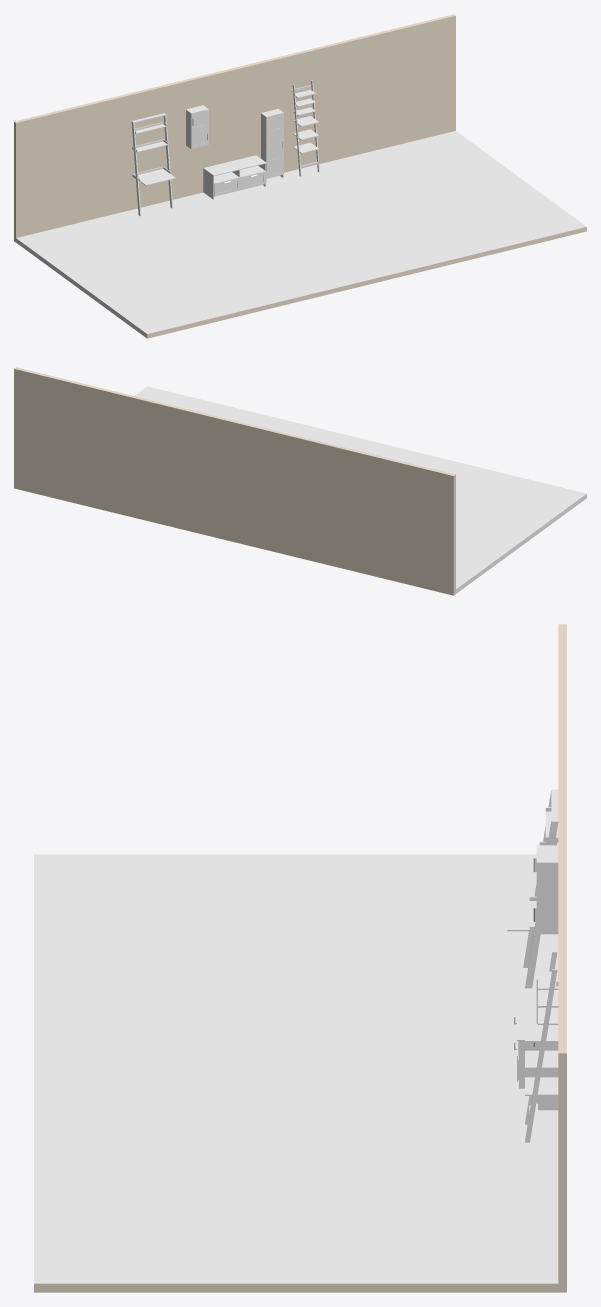
File: living room_furniture.glb
The picture shows the model from 3 angles, top to bottom: view 1: azimuth 30°, elevation 25°; view 2: azimuth 150°, elevation 25°; view 3: azimuth 270°, elevation 25°; orthographic projection. The views are drawn at different scales.
Parts seen in each view (by area): view 1: Plane, mesa-tv, escritorio-salon, stand-alto, stand-blanco, stand-cuadro.001, stand-cuadro; view 2: Plane; view 3: Plane, stand-blanco, escritorio-salon, mesa-tv, stand-cuadro.001, stand-alto, stand-cuadro.
Part boxes in pixels (x1,y1,x2,y2): Plane: (14, 14, 586, 338); mesa-tv: (203, 155, 266, 199); escritorio-salon: (131, 113, 175, 216); stand-alto: (261, 109, 283, 181); stand-blanco: (291, 80, 319, 176); stand-cuadro.001: (186, 105, 208, 131); stand-cuadro: (186, 127, 208, 149); Plane: (14, 367, 586, 595); Plane: (34, 624, 566, 1292); stand-blanco: (525, 951, 558, 1142); escritorio-salon: (507, 789, 558, 988); mesa-tv: (514, 988, 536, 1088); stand-cuadro.001: (533, 845, 558, 898); stand-alto: (533, 962, 558, 1110); stand-cuadro: (533, 898, 558, 934).
Size of the model in its own units: 10 by 2.6 by 5.25.
